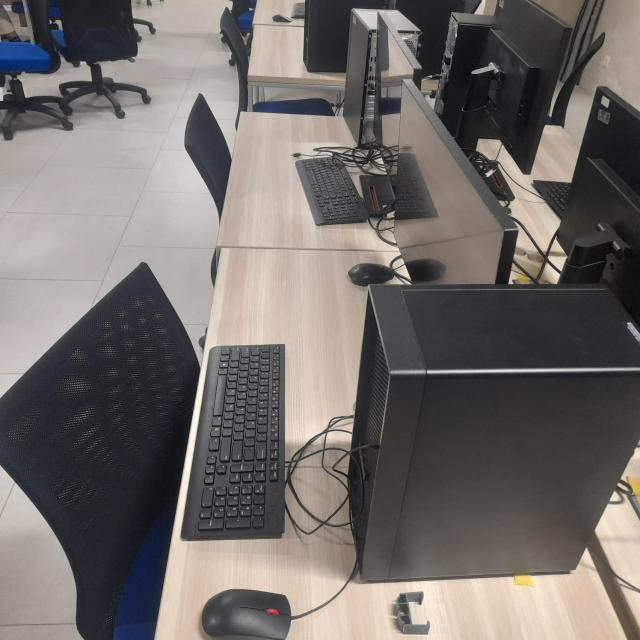keyboard: (180, 344, 286, 542), (295, 156, 369, 226), (532, 180, 570, 220), (290, 2, 304, 20)
monitor: (394, 79, 519, 284), (555, 85, 640, 328), (455, 0, 573, 175), (365, 12, 423, 171), (389, 0, 465, 77)
mouse: (201, 588, 291, 640), (347, 262, 395, 286), (272, 15, 292, 22)
pc: (348, 283, 640, 584), (342, 8, 422, 147), (434, 12, 499, 143), (303, 0, 389, 73)
